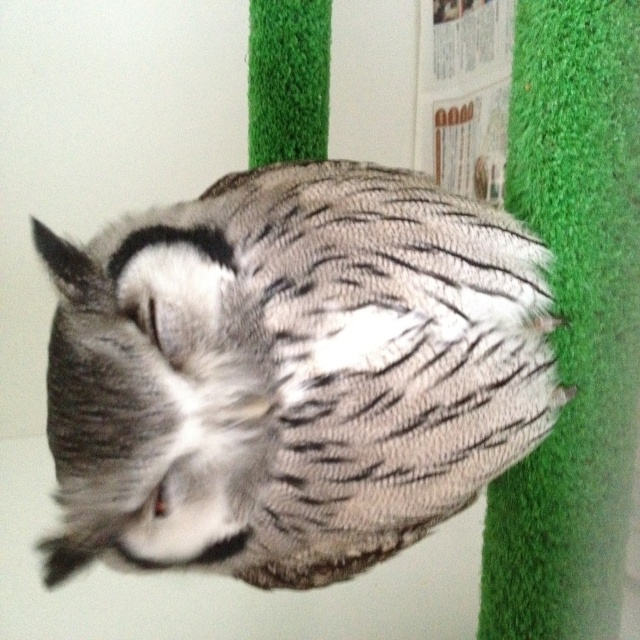Owl: (30, 156, 580, 595)
